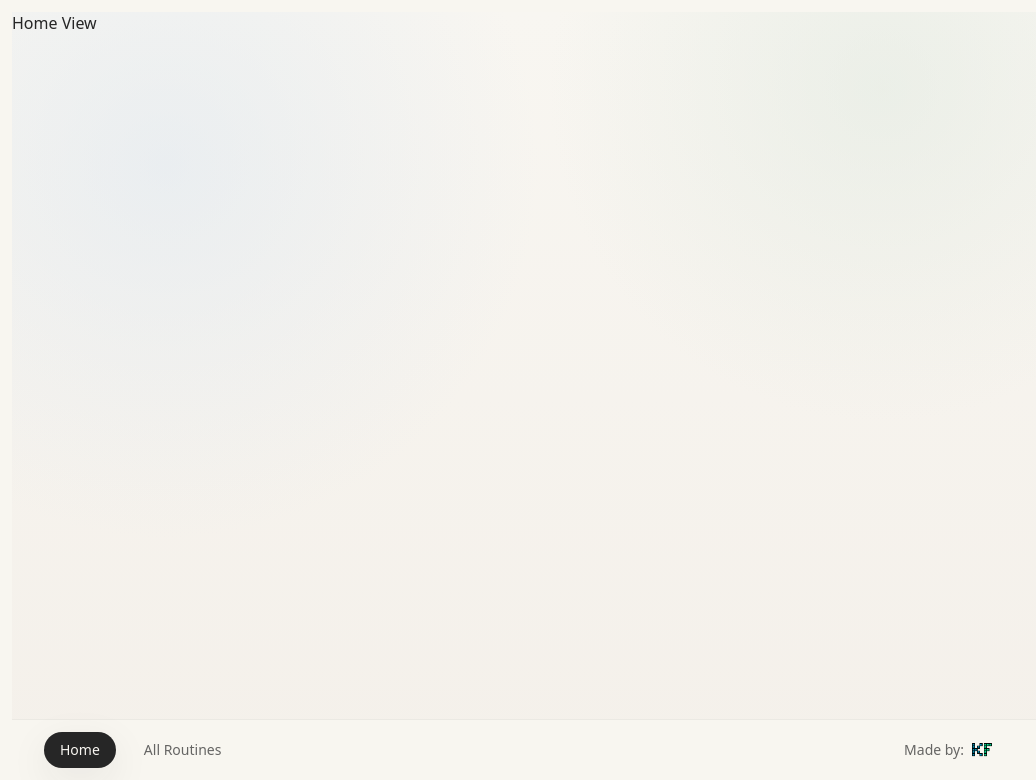
Test case: BottomNavBar › switches routes between Home and All Routines
Expected: the text "Home View" is shown, [12,12,97,34]
Step 1. Click the link with aria-label "All routines view" → (183, 750), box [144,740,221,759]
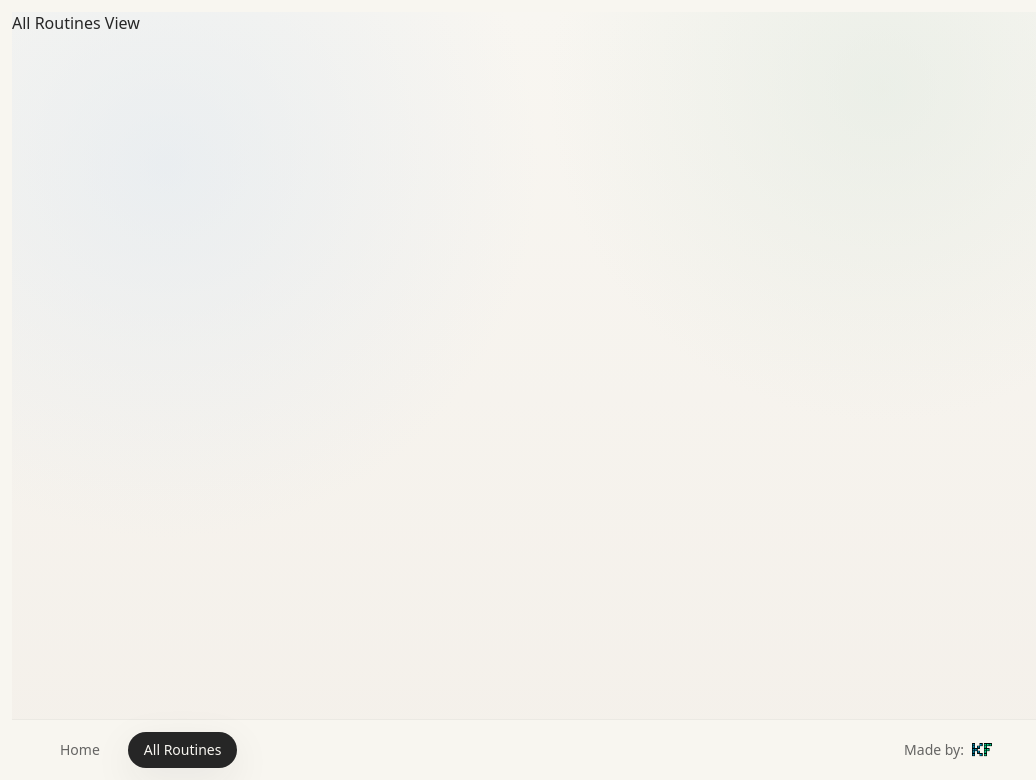
Result: the text "All Routines View" is shown at [12,12,140,34]
